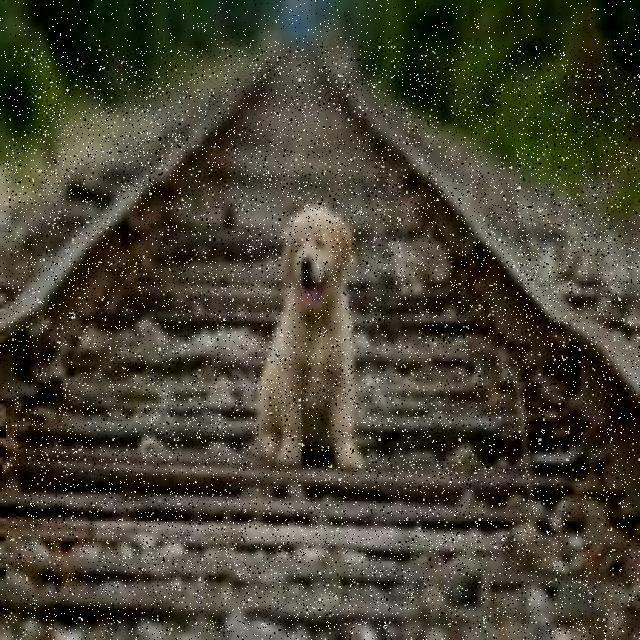danger: (251, 205, 372, 472)
rail: (6, 46, 640, 640)
